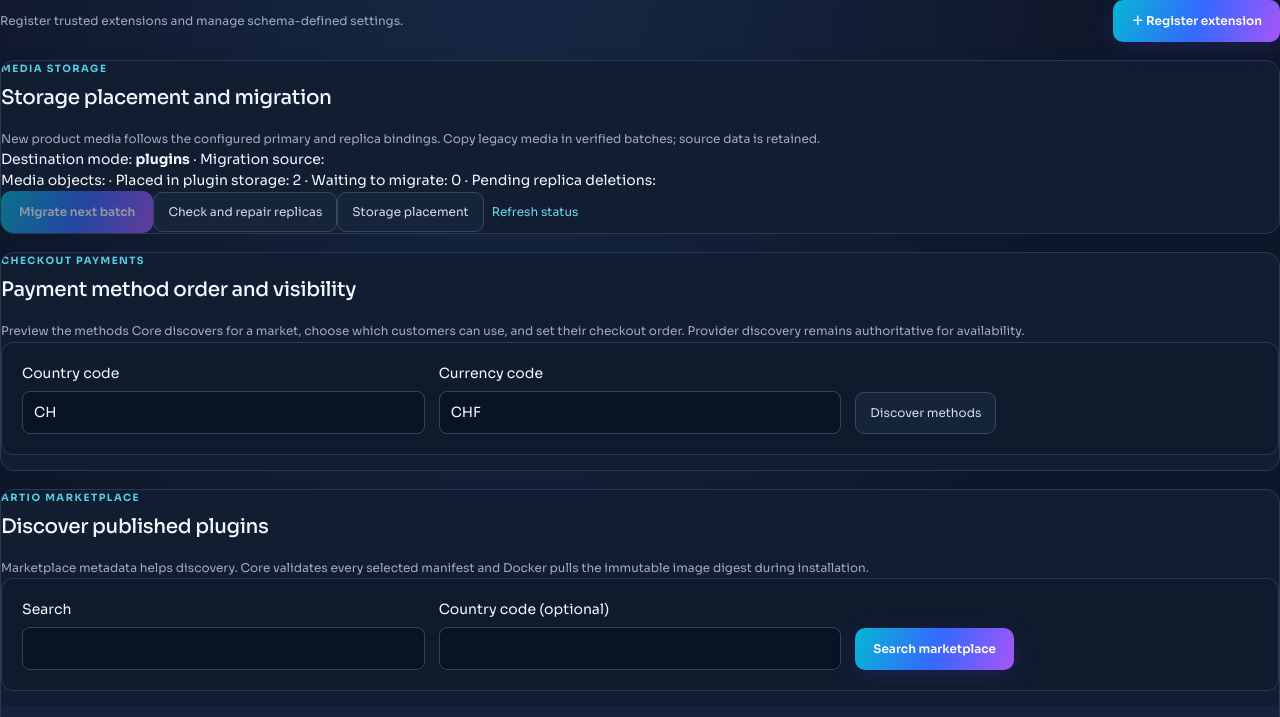
Test: ExtensionAdminComponent › repairs storage placements in resumable batches using one repair run identity
The image size is (1280, 717).
Click the button "Check and repair replicas". click: (245, 212)
box: [153,192,337,232]
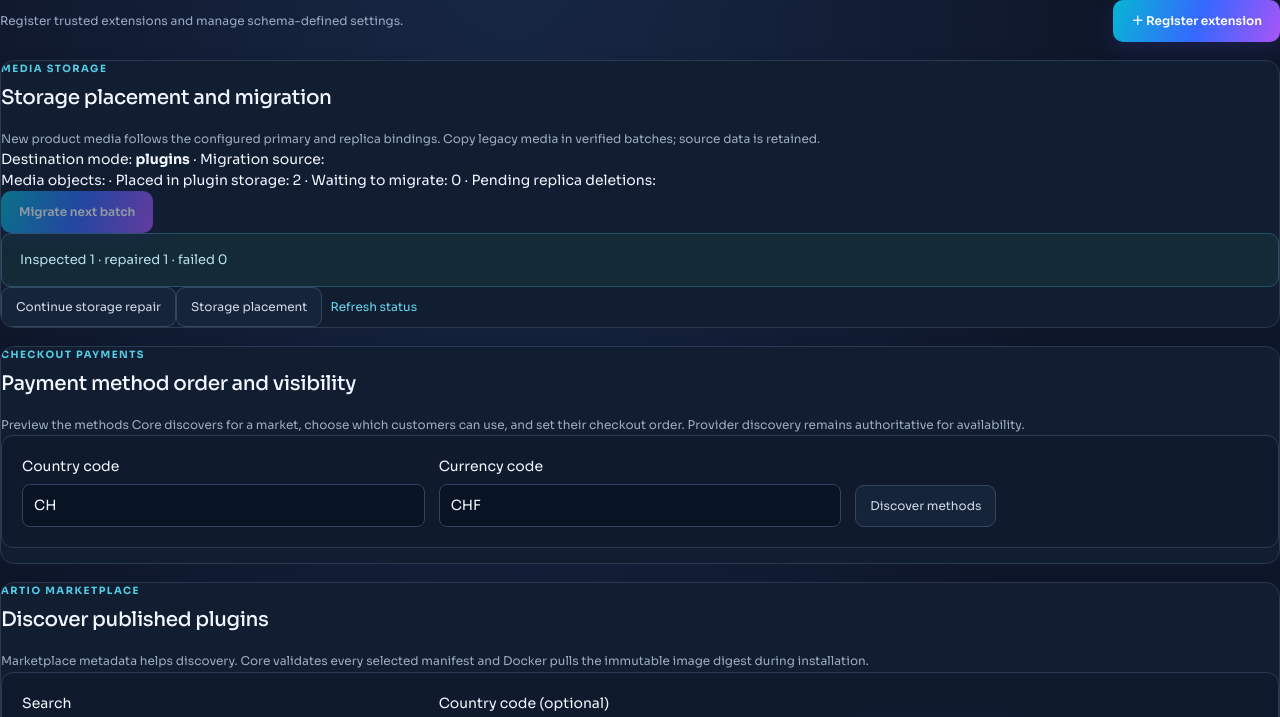
Click the button "Continue storage repair". click: (88, 307)
box: [1,287,176,327]
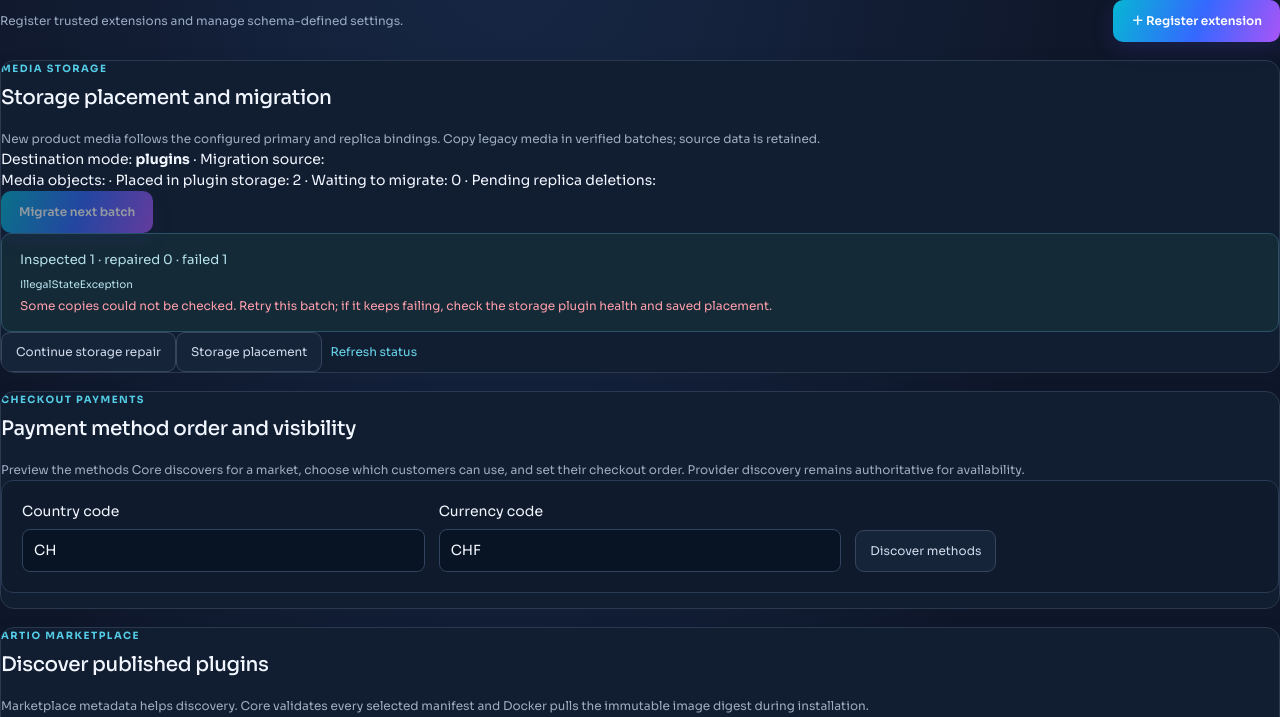
Now the text "Some copies could not be checked. Retry this batch; if it keeps failing, check the storage plugin health and saved placement." is shown, box [20,298,772,313]
Click the button "Continue storage repair". click: (88, 352)
box: [1,332,176,372]
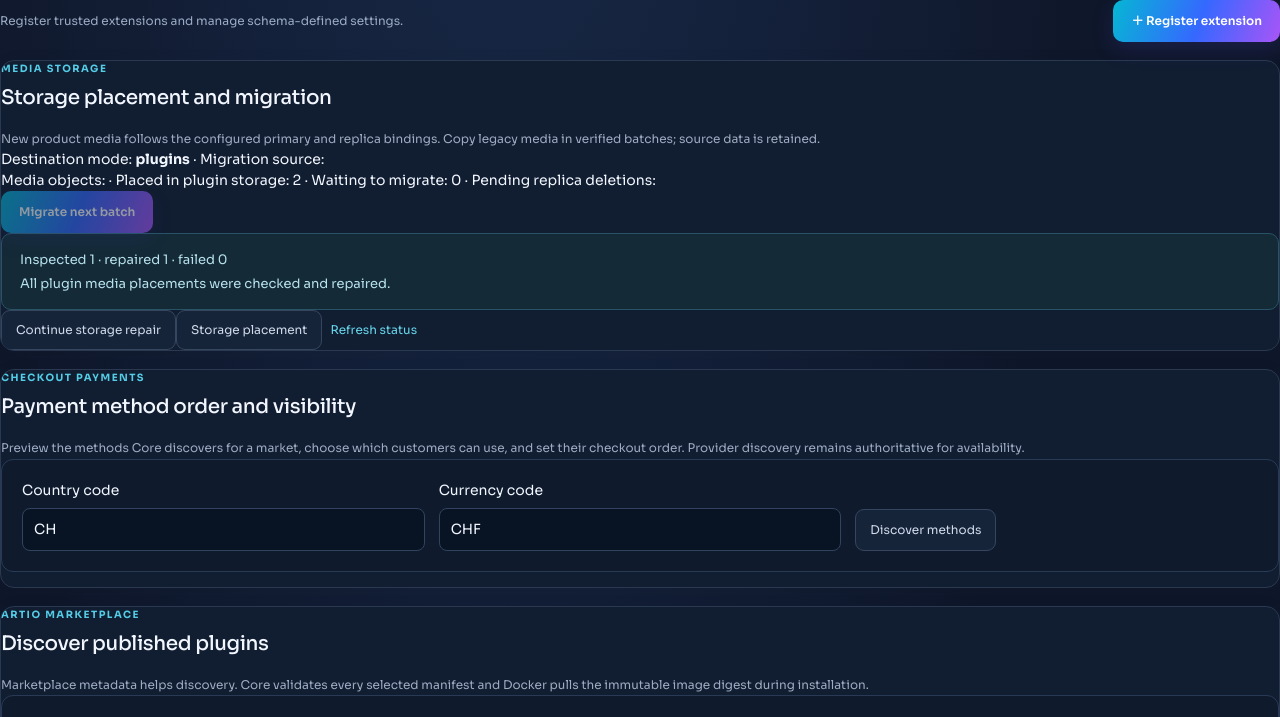
Now the text "All plugin media placements were checked and repaired." is shown, box [20,275,390,292]
